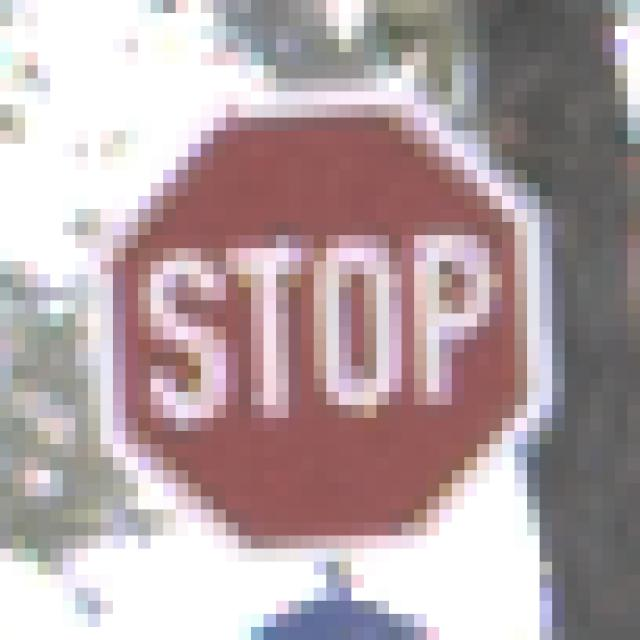STOP: (64, 79, 578, 576)
